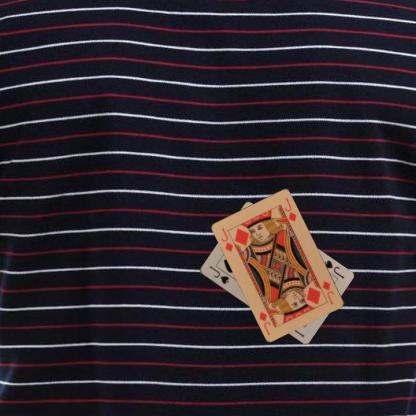Jd: (218, 225, 235, 253), (320, 278, 336, 306)
Js: (321, 258, 346, 280), (207, 263, 230, 285)
